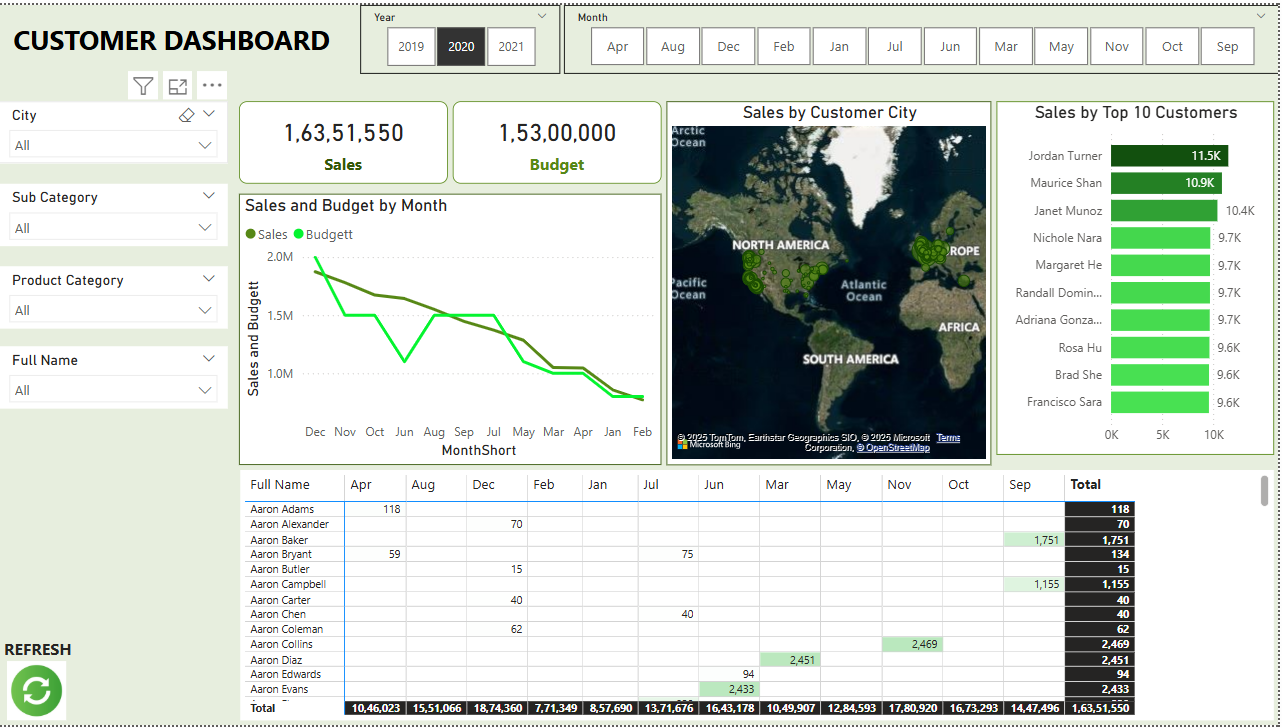

The dashboard page shown, as its layout file describes it:
{"tool":"powerbi","page":{"name":"CUSTOMER","canvas":[1280,720],"ordinal":2},"visuals":[{"type":"textbox","box":[0,11,344.8,57.5],"z":0},{"type":"slicer","fields":{"Values":["DIM_Calendar.Year"]},"box":[361.2,0,200,68.8],"z":1000},{"type":"slicer","fields":{"Values":["DIM_Calendar.MonthShort"]},"box":[564.9,0,715.4,68.5],"z":2000},{"type":"slicer","fields":{"Values":["DIM_Customers.Customer City"]},"box":[0,96.8,228.7,62.4],"z":3000},{"type":"slicer","fields":{"Values":["DIM_Products.Sub Category"]},"box":[0,178.8,228.7,62.4],"z":4000},{"type":"slicer","fields":{"Values":["DIM_Products.Product Category"]},"box":[0,260.7,228.7,62.4],"z":5000},{"type":"slicer","fields":{"Values":["DIM_Customers.Full Name"]},"box":[0,341.4,228.7,62.4],"z":6000},{"type":"lineChart","title":"Sales and Budget by Month","fields":{"Category":["DIM_Calendar.MonthShort"],"Y":["Metrics.Sales","Metrics.Budgett"]},"box":[240,188.8,422.5,271.2],"z":7000},{"type":"image","box":[0,651.2,75,68.8],"z":8000},{"type":"textbox","box":[0,627.5,228.8,32.5],"z":9000},{"type":"card","fields":{"Values":["Metrics.Sales"]},"box":[240,96.2,208.8,82.5],"z":10000},{"type":"card","fields":{"Values":["Metrics.Budgett"]},"box":[453.8,96.2,208.8,82.5],"z":11000},{"type":"pivotTable","fields":{"Values":["Metrics.Sales"],"Rows":["DIM_Customers.Full Name"],"Columns":["DIM_Calendar.MonthShort"]},"box":[241.2,465,1033.8,250],"z":12000},{"type":"map","fields":{"Category":["DIM_Customers.Customer City"],"Size":["Metrics.Sales"]},"box":[667.5,96.2,325,363.8],"z":13000},{"type":"barChart","title":"Sales by Top 10 Customers","fields":{"Category":["DIM_Customers.Full Name"],"Y":["Metrics.Sales"]},"box":[997.5,96.2,277.5,353.8],"z":14000}]}

Visuals, with their boxes in screenshot pixels (x1, y1, x2, y2), scaled from the page's 1280x720 canvas onto the 1282x728 screenshot:
textbox: box(0, 11, 345, 69)
slicer - DIM_Calendar.Year: box(362, 0, 562, 70)
slicer - DIM_Calendar.MonthShort: box(566, 0, 1281, 69)
slicer - DIM_Customers.Customer City: box(0, 98, 229, 161)
slicer - DIM_Products.Sub Category: box(0, 181, 229, 244)
slicer - DIM_Products.Product Category: box(0, 264, 229, 327)
slicer - DIM_Customers.Full Name: box(0, 345, 229, 408)
"Sales and Budget by Month" lineChart: box(240, 191, 664, 465)
image: box(0, 658, 75, 727)
textbox: box(0, 634, 229, 667)
card - Metrics.Sales: box(240, 97, 450, 181)
card - Metrics.Budgett: box(455, 97, 664, 181)
pivotTable - Metrics.Sales x DIM_Customers.Full Name: box(242, 470, 1277, 723)
map - DIM_Customers.Customer City x Metrics.Sales: box(669, 97, 994, 465)
"Sales by Top 10 Customers" barChart: box(999, 97, 1277, 455)
